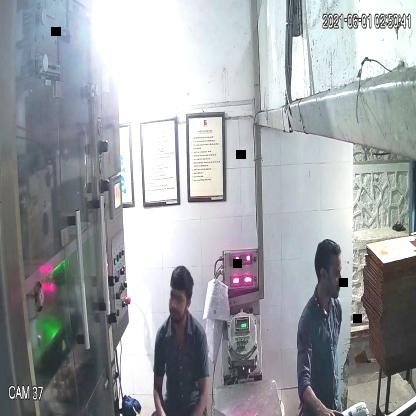no_goggles: (314, 263, 344, 285), (166, 286, 192, 308)
